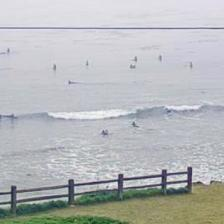surfer: (2, 113, 17, 118), (131, 121, 139, 127), (100, 129, 108, 135), (129, 64, 136, 70), (52, 63, 57, 71), (68, 80, 77, 84), (188, 61, 193, 68), (158, 54, 162, 62), (132, 56, 137, 62), (85, 60, 89, 67), (6, 47, 10, 53), (1, 51, 5, 55)
